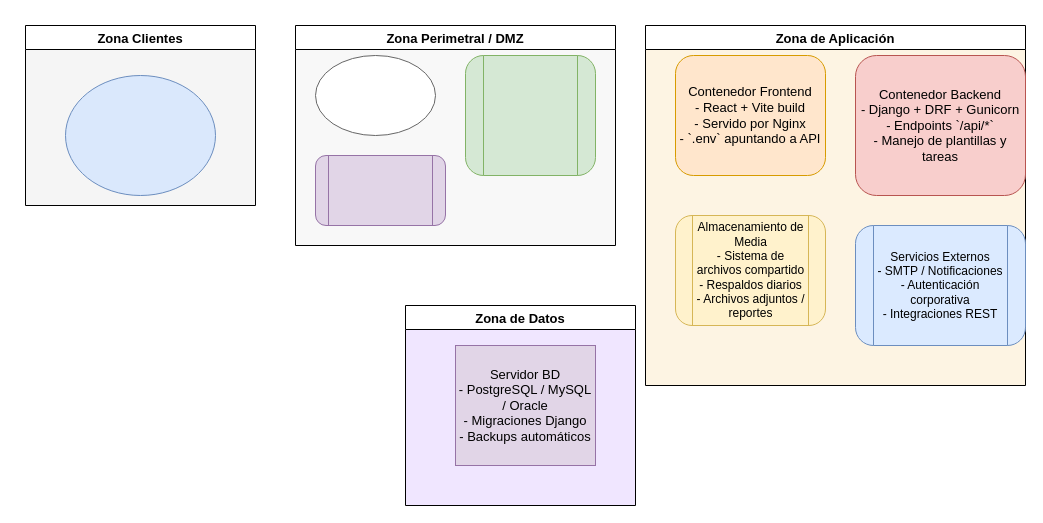
This 1043x523 diagram has some shape labels left out. Here are the shapes that lost their labels. From the top down, the centre of each, then its label:
At point (375, 95): "Internet / VPN".
At point (530, 115): "Balanceador / Proxy Reverso - Nginx / Traefik - Certificados TLS - Gzip + Brotli".
At point (140, 135): "Usuarios Web - Soporte - Administrativos".
At point (380, 190): "Entrega de Estáticos - React build - CSS/JS/Assets".
